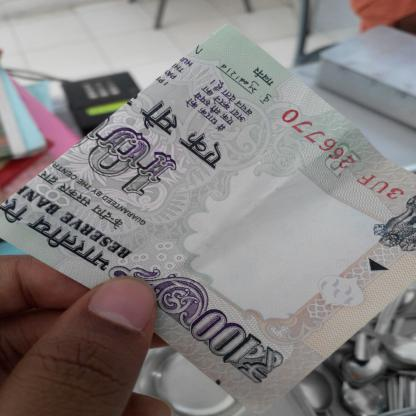Old100Front: (0, 24, 415, 415)
